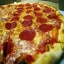pepperoni: (18, 28, 36, 41), (37, 23, 54, 32), (5, 21, 17, 31), (11, 12, 21, 23), (20, 20, 33, 28), (35, 17, 47, 24), (25, 6, 33, 16), (33, 12, 44, 17), (42, 8, 50, 14)
pizza: (1, 3, 63, 64)
